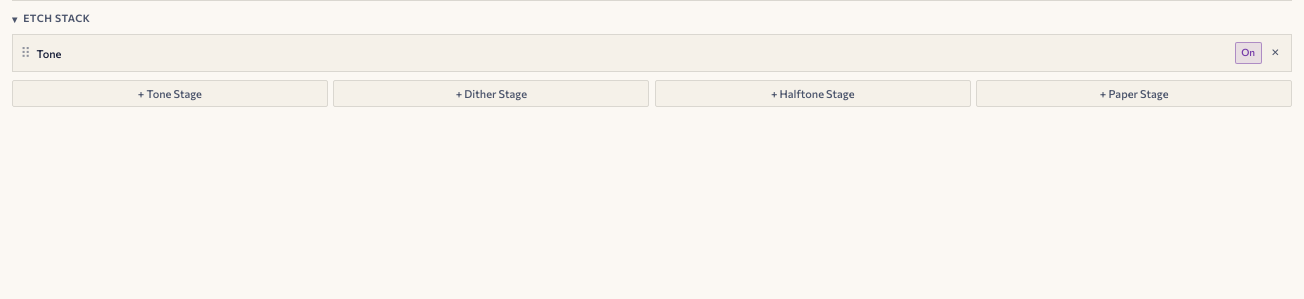
Test: EtchStackRack › renders the Levels histogram control with black / white / gamma handles
This screenshot has width=1304, height=299.
Click the button with test id "etch-stage-expand". click: x=49, y=53
box: top-left (36, 44), bottom-right (1229, 62)
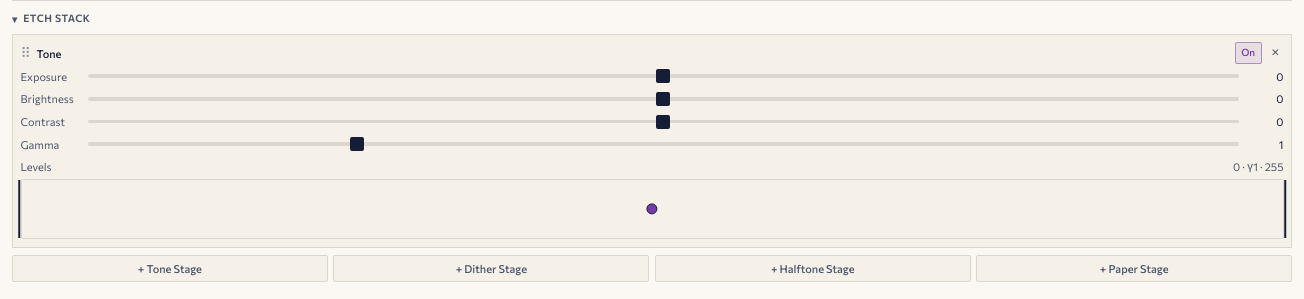
expect the element with test id "etch-levels" is shown: met, box top-left (20, 158), bottom-right (1284, 239)
expect the button with test id "levels-black" is shown: met, box top-left (18, 180), bottom-right (25, 238)
expect the button with test id "levels-white" is shown: met, box top-left (1279, 180), bottom-right (1286, 238)
